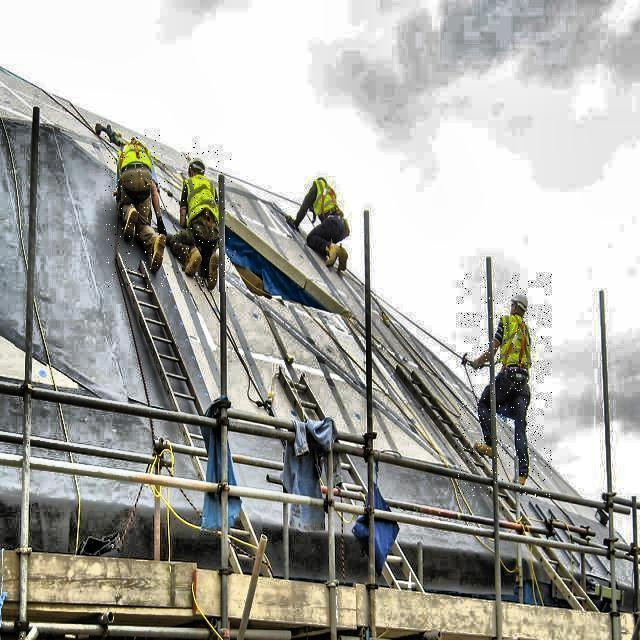safety_helmet: (187, 153, 210, 175), (513, 292, 531, 310)
safety_jacket: (495, 317, 535, 371), (182, 178, 224, 227), (115, 144, 156, 174), (306, 183, 343, 215)
